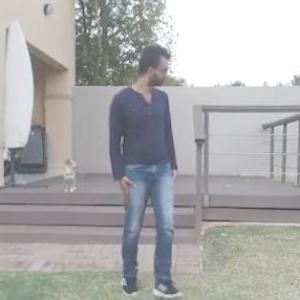follow: (107, 30, 202, 268)
